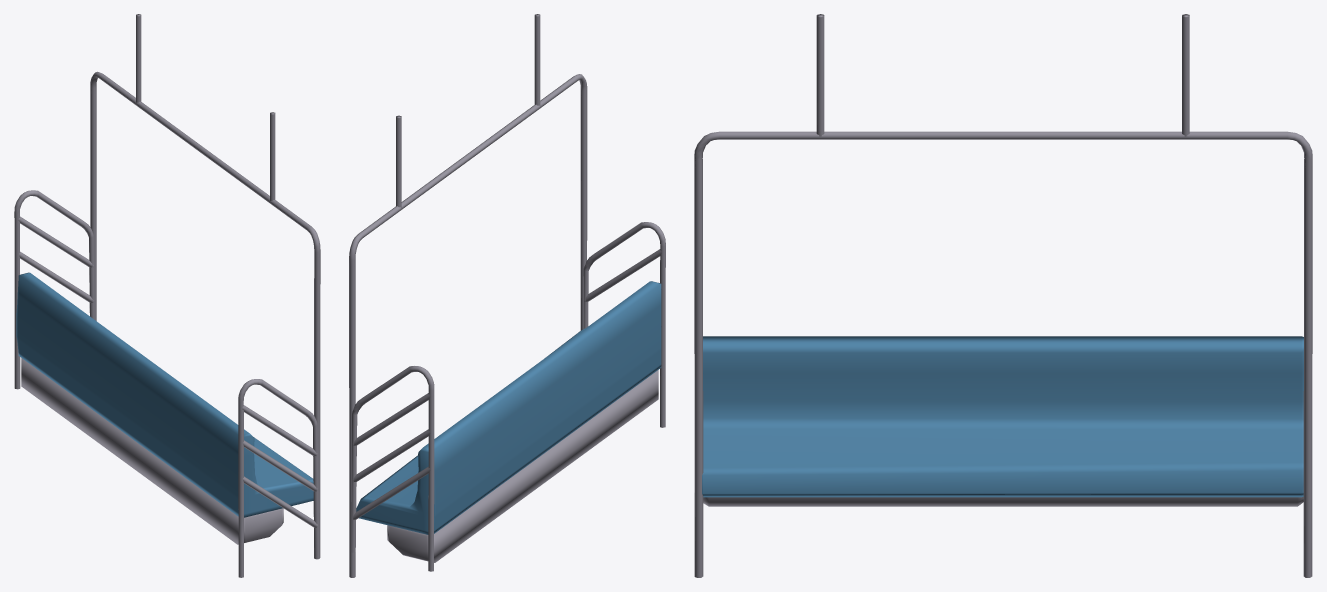
File: seat.fbx
3 views of the same model, side by side, from view 1: azimuth 30°, elevation 25°; view 2: azimuth 150°, elevation 25°; view 3: azimuth 270°, elevation 25° (orthographic). The views are drawn at different scales.
Visible parts, largest first — view 1: seat_mod; view 2: seat_mod; view 3: seat_mod.
Part boxes in pixels (x1,y1,x2,y2): seat_mod: (14,14,320,577); seat_mod: (349,14,665,577); seat_mod: (694,14,1312,577).
Bounding box in the file's own units: 1.06 × 5.06 × 5.06.
